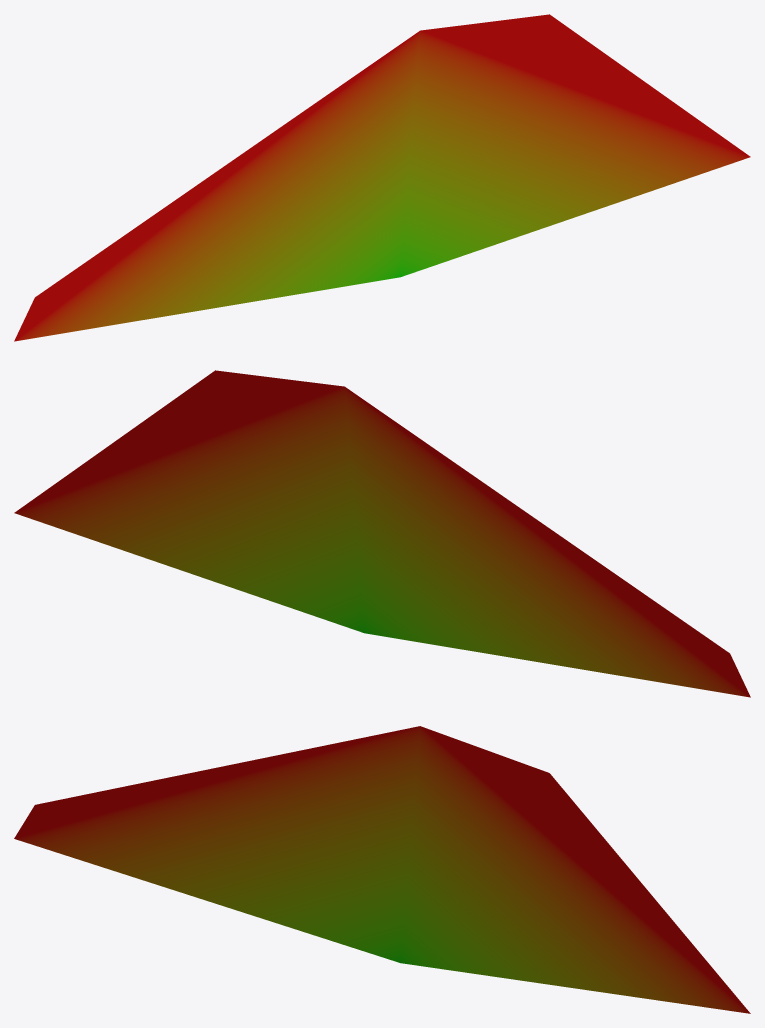
Rendered from Var8_LOD3.fbx.
3 views of the same model, one above another, from view 1: azimuth 30°, elevation 25°; view 2: azimuth 150°, elevation 25°; view 3: azimuth 330°, elevation 25° (orthographic).
Visible parts, largest first — view 1: _grxu_Var8_LOD3; view 2: _grxu_Var8_LOD3; view 3: _grxu_Var8_LOD3.
Part boxes in pixels (x1,y1,x2,y2): _grxu_Var8_LOD3: [14, 14, 750, 341]; _grxu_Var8_LOD3: [14, 370, 750, 697]; _grxu_Var8_LOD3: [14, 726, 750, 1013].
Bounding box in the file's own units: 36.06 × 11.31 × 1.35e-06.
